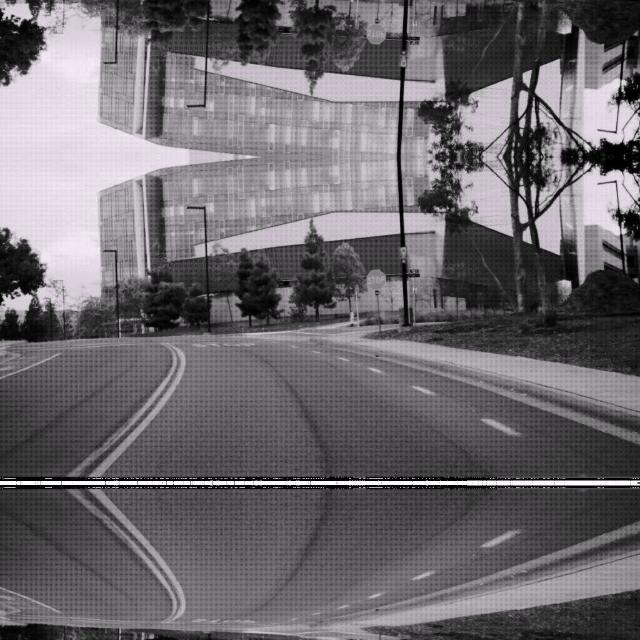stop: (364, 23, 386, 44), (364, 268, 386, 288)
